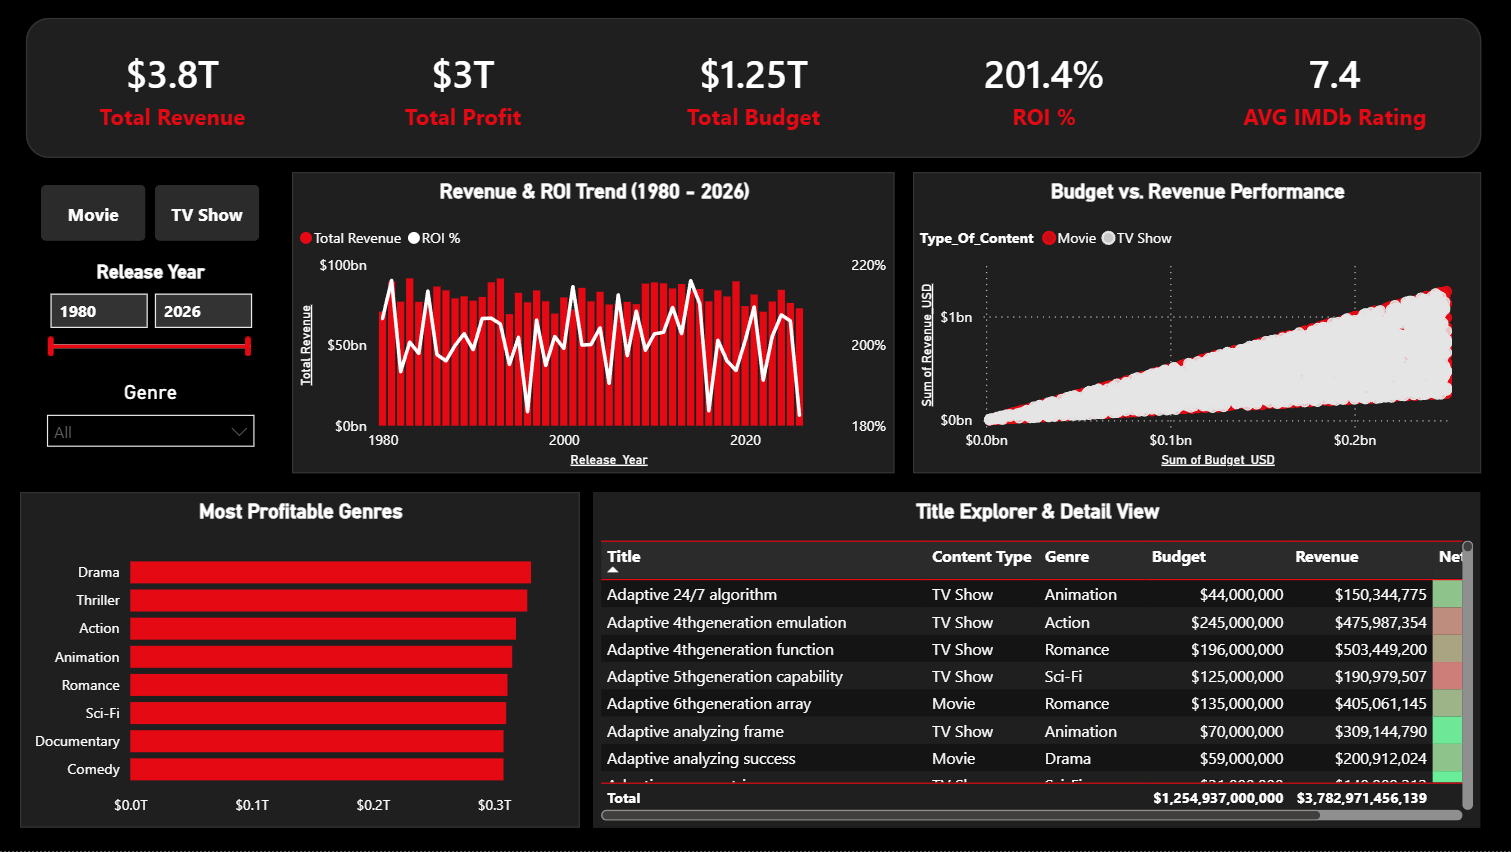

Layout of this report page (visuals, bound fields, positions):
{"tool":"powerbi","page":{"name":"Content ROI & Financial Performance Executive Report","canvas":[1280,720],"ordinal":0},"visuals":[{"type":"cardVisual","fields":{"Data":["_Measures.Total Revenue","_Measures.Total Profit","_Measures.Total Budget","_Measures.ROI %","_Measures.AVG TMDb Rating","_Measures.AVG IMDb Rating"]},"box":[21.9,19.8,1236.3,128.1],"z":0},{"type":"slicer","title":"Type of Content","fields":{"Values":["Dim_Content_Metadata.Type_Of_Content"]},"box":[21.9,147.9,236.4,62.5],"z":1000},{"type":"slicer","title":"Genre","fields":{"Values":["Dim_Content_Metadata.Genre"]},"box":[37.5,223.9,206.2,88.5],"z":2000},{"type":"slicer","title":"Release Year","fields":{"Values":["Dim_Content_Metadata.Release_Year"]},"box":[37.5,312.4,206.2,88.5],"z":3000},{"type":"scatterChart","fields":{"X":["Sum(Fact_Content_Performance.Budget_USD)"],"Y":["Sum(Fact_Content_Performance.Revenue_USD)"],"Category":["Fact_Content_Performance.content_id"],"Series":["Dim_Content_Metadata.Type_Of_Content"]},"box":[267.7,147.9,410.3,253.1],"z":4000},{"type":"clusteredBarChart","fields":{"Category":["Dim_Content_Metadata.Genre"],"Y":["_Measures.Total Profit"]},"box":[787.8,147.8,459.3,253.1],"z":5000},{"type":"lineClusteredColumnComboChart","fields":{"Category":["Dim_Content_Metadata.Release_Year"],"Y":["_Measures.Total Revenue"],"Y2":["_Measures.ROI %"]},"box":[37.5,433.3,568.7,253.1],"z":6000},{"type":"tableEx","fields":{"Values":["Dim_Content_Metadata.title","Dim_Content_Metadata.Type_Of_Content","Dim_Content_Metadata.Genre","Sum(Fact_Content_Performance.Budget_USD)","Sum(Fact_Content_Performance.Revenue_USD)","_Measures.ROI %","Sum(Fact_Content_Performance.Imdb_Rating)"]},"box":[616.7,432.8,641,252.9],"z":6001}]}

Visuals, with their boxes in screenshot pixels (x1, y1, x2, y2), scaled from the page's 1280x720 canvas onto the 1511x852 screenshot:
cardVisual - _Measures.Total Revenue x _Measures.Total Profit: x1=26 y1=23 x2=1485 y2=175
"Type of Content" slicer: x1=26 y1=175 x2=305 y2=249
"Genre" slicer: x1=44 y1=265 x2=288 y2=370
"Release Year" slicer: x1=44 y1=370 x2=288 y2=474
scatterChart - Sum(Fact_Content_Performance.Budget_USD) x Sum(Fact_Content_Performance.Revenue_USD): x1=316 y1=175 x2=800 y2=475
clusteredBarChart - Dim_Content_Metadata.Genre x _Measures.Total Profit: x1=930 y1=175 x2=1472 y2=474
lineClusteredColumnComboChart - Dim_Content_Metadata.Release_Year x _Measures.Total Revenue: x1=44 y1=513 x2=716 y2=812
tableEx - Dim_Content_Metadata.title x Dim_Content_Metadata.Type_Of_Content: x1=728 y1=512 x2=1485 y2=811
